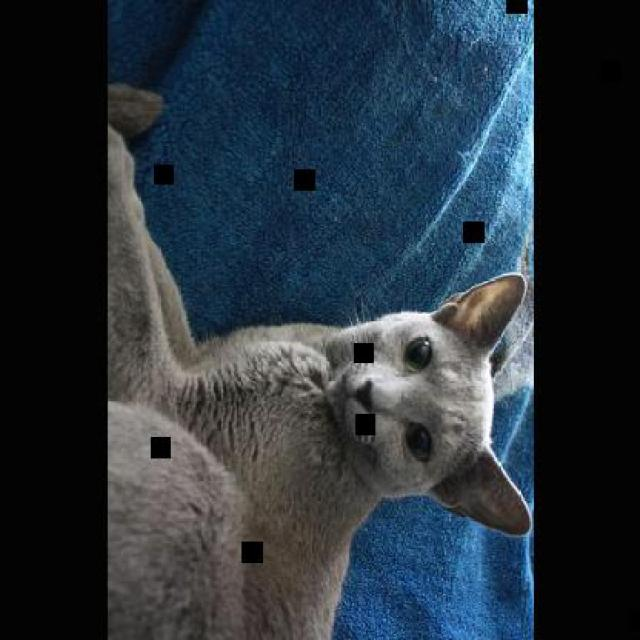unauthorized: (106, 80, 531, 638)
